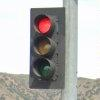traffic lights: (29, 6, 66, 90)
